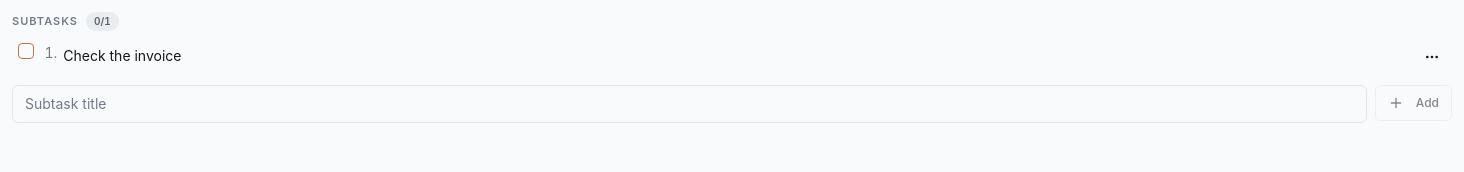
SubtasksSection Escape handling › cancels an inline edit and reports that no edit is open anymore
The image size is (1464, 172).
Click the button "Check the invoice" at {"x": 122, "y": 56}, box [63,46,1408,65]
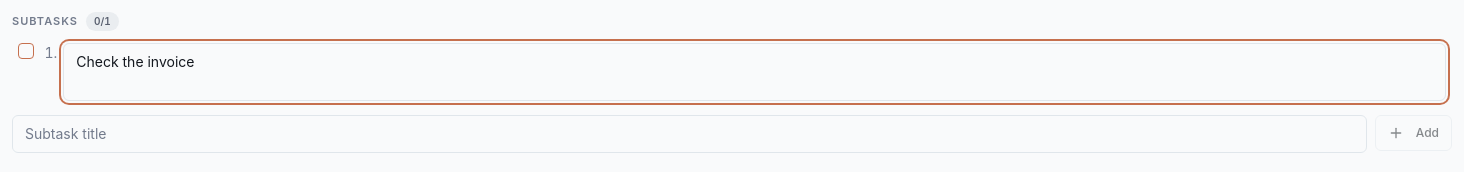
Type " twice" into the text box showing "Check the invoice" at {"x": 755, "y": 72}, box [63,43,1446,101]
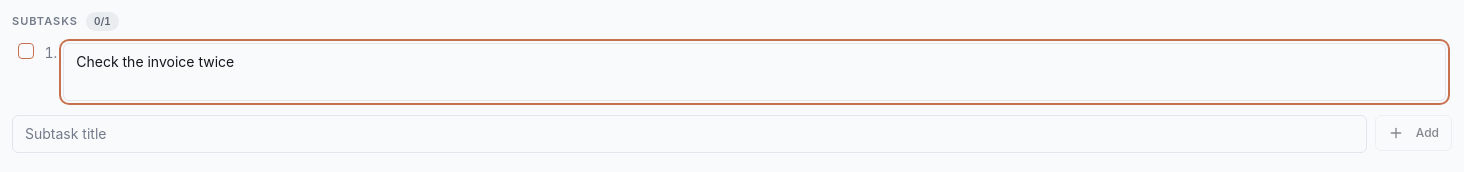
Press Escape
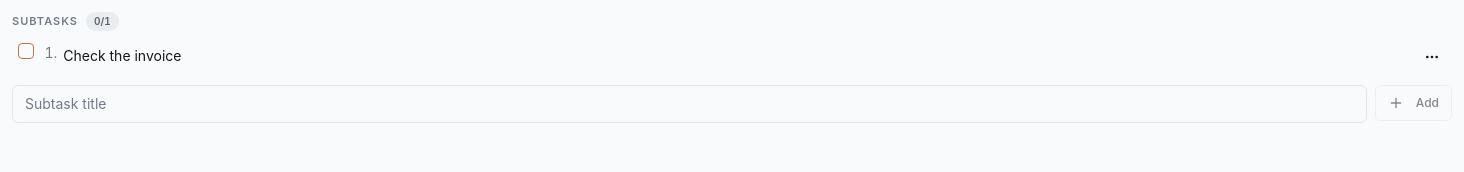
Check: the field showing "Check the invoice twice" is not shown
Check: the button "Check the invoice" is shown, box [63,46,1408,65]
